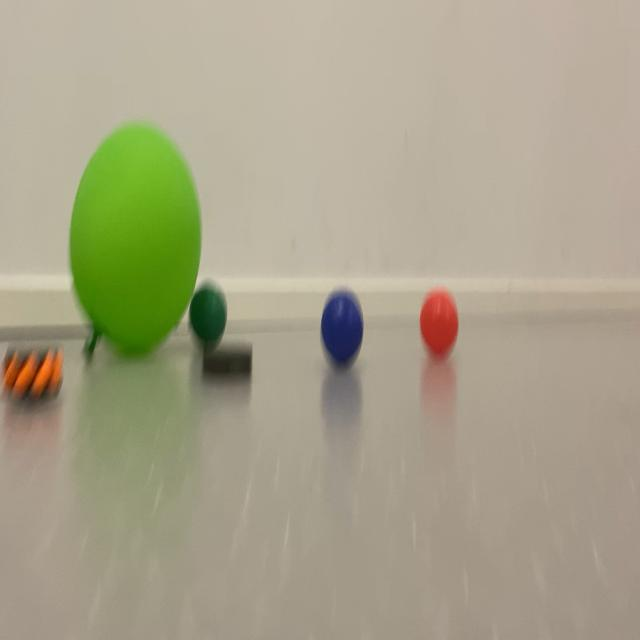7: (413, 282, 474, 398)
green ball: (300, 261, 373, 399)
red ball: (181, 278, 242, 350)
